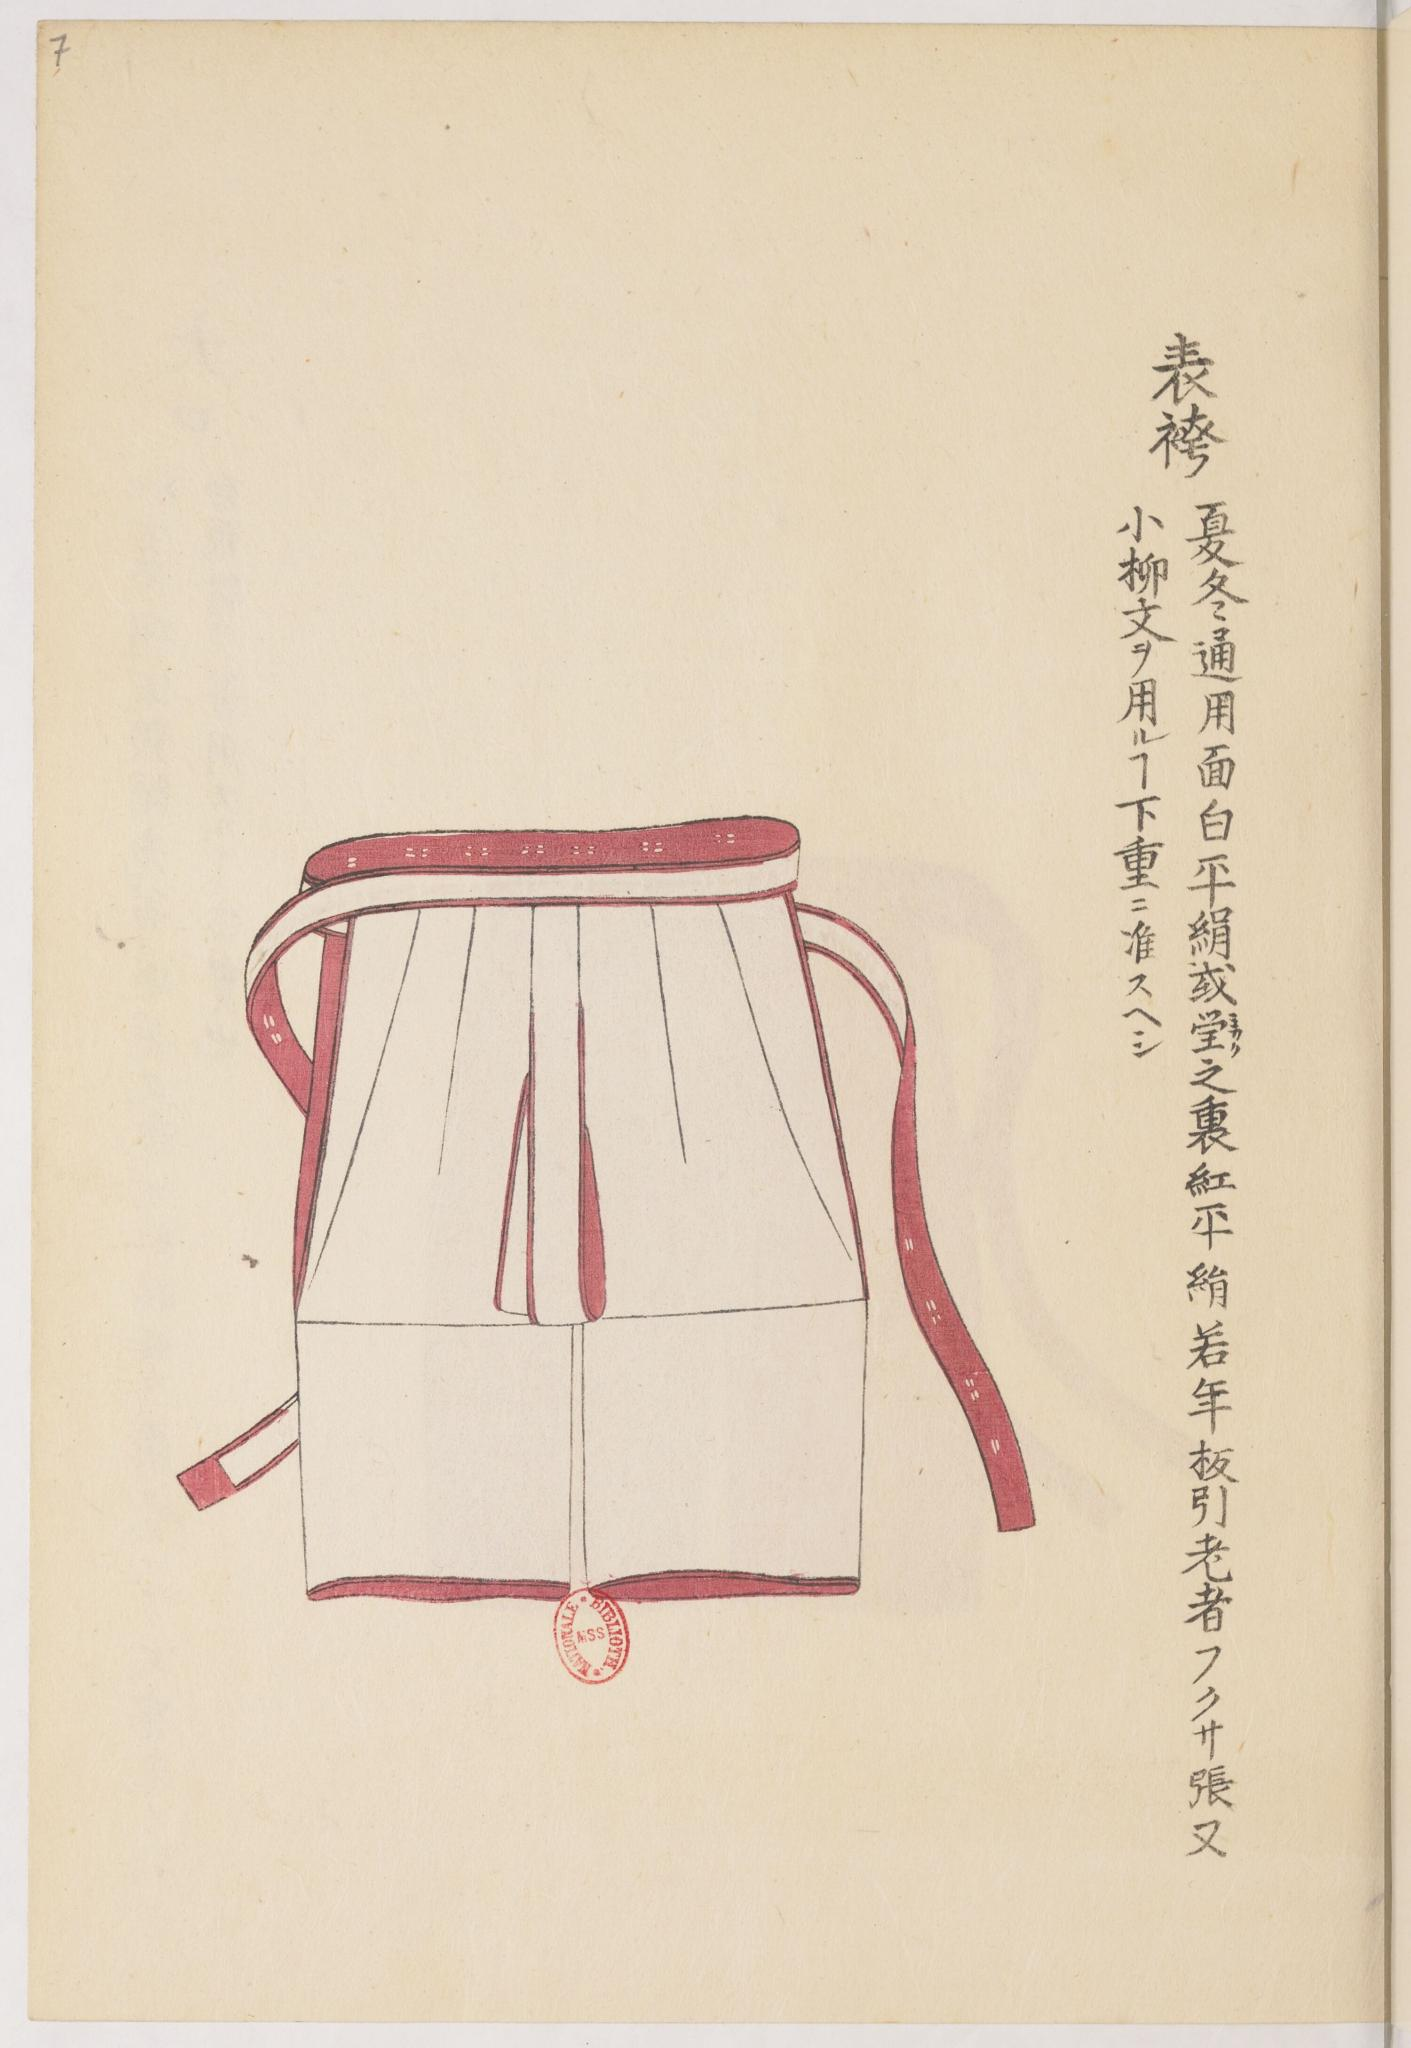MainZone-Character: (1184, 1008, 1251, 1057)
MainZone-Ruby: (1227, 1010, 1248, 1060)
